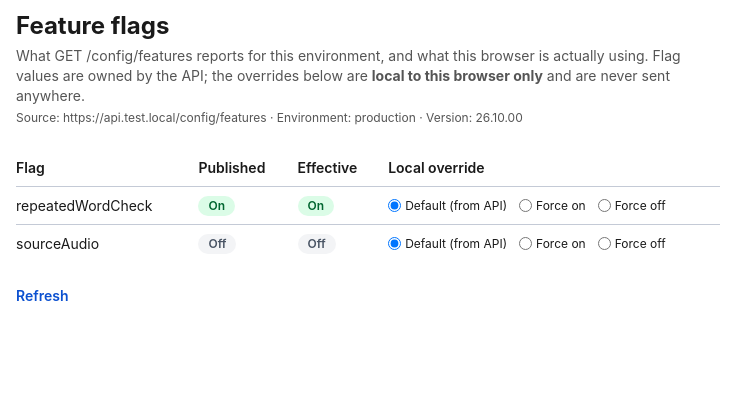
it: FeatureFlagsDiagnostics — local override controls › forcing off hides a published-on flag
Step 1. Click the radio button with test id "flag-override-repeatedWordCheck-off" → x=604, y=206, box 598,199 -> 611,212
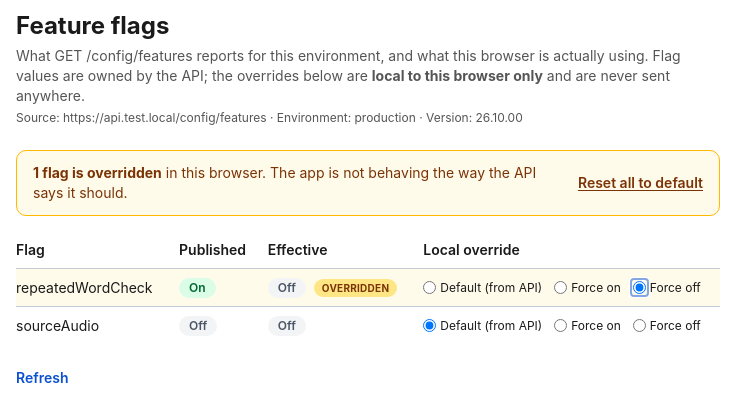
Expected: the text with test id "flag-published-repeatedWordCheck" reads "On", 189,280 -> 206,295
Expected: the text with test id "flag-state-repeatedWordCheck" reads "Off", 278,280 -> 296,295
